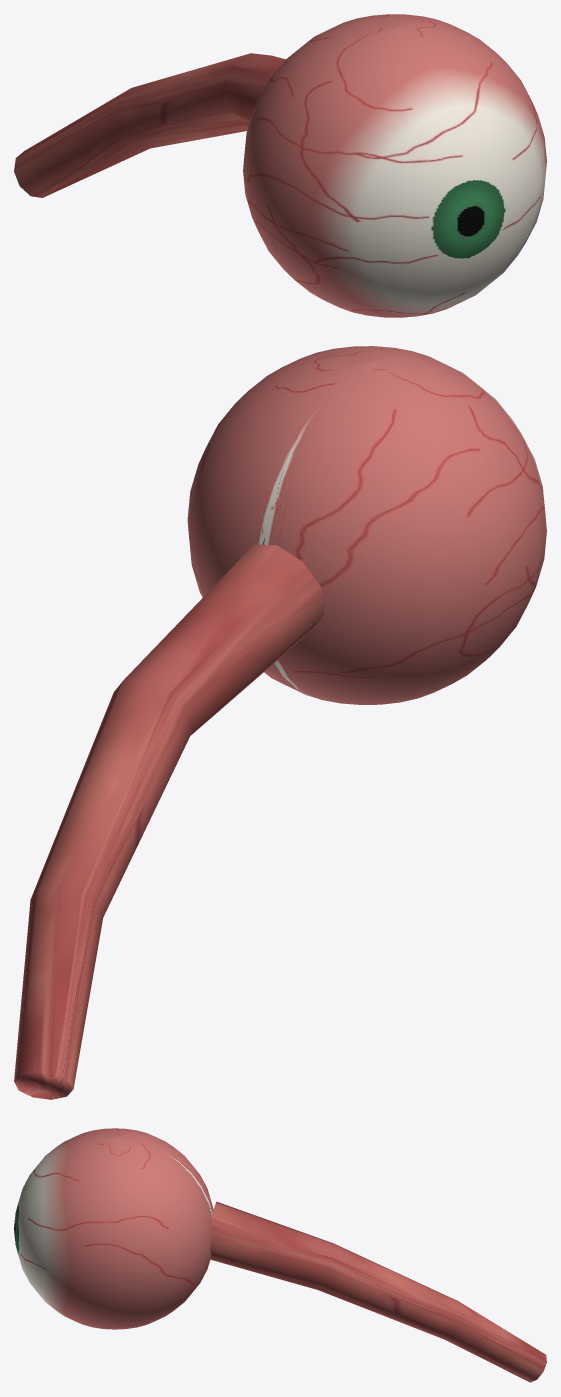
File: 目玉_eyeball.glb
3 views of the same model, one above another, from view 1: azimuth 30°, elevation 25°; view 2: azimuth 150°, elevation 25°; view 3: azimuth 270°, elevation 25° (orthographic). The views are drawn at different scales.
Parts seen in each view (by area): view 1: eyeball; view 2: eyeball; view 3: eyeball.
Boxes of the visible parts, x1,y1,x2,y2 form: eyeball: (14,14,546,317); eyeball: (14,346,546,1099); eyeball: (14,1128,546,1382).
Bounding box in the file's own units: 0.024 × 0.0336 × 0.0633.
2 materials, 2 textured.
